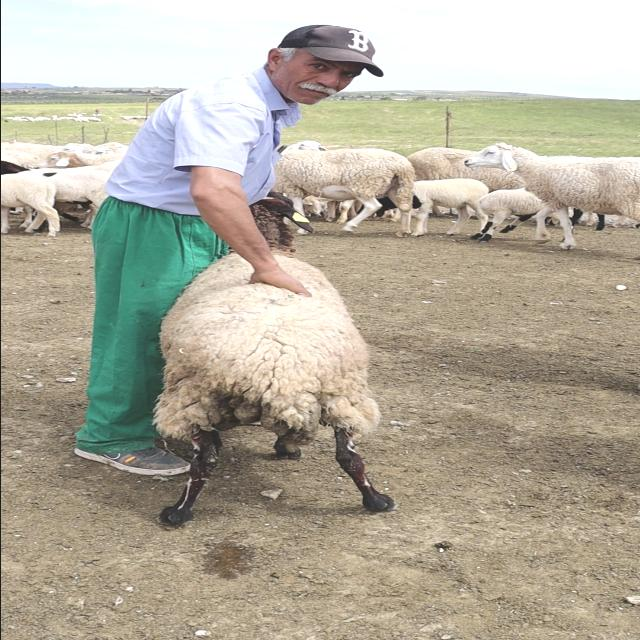Score_2: (153, 191, 395, 526)
